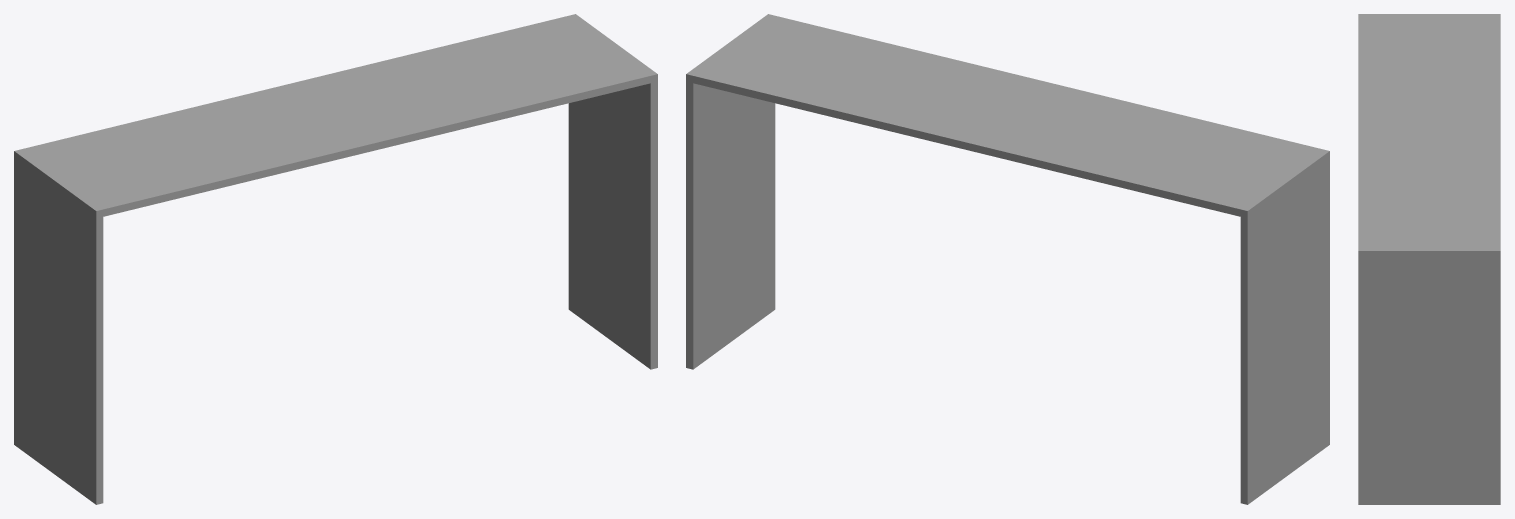
File: meuble_68fa1f2ac80f9.glb
3 views of the same model, side by side, from view 1: azimuth 30°, elevation 25°; view 2: azimuth 150°, elevation 25°; view 3: azimuth 270°, elevation 25° (orthographic). The views are drawn at different scales.
Visible parts, largest first — view 1: world; view 2: world; view 3: world.
Boxes of the visible parts, x1=… form: world: x1=14, y1=14, x2=657, y2=504; world: x1=686, y1=14, x2=1329, y2=504; world: x1=1358, y1=14, x2=1500, y2=504.
Bounding box in the file's own units: 1.5 × 0.75 × 0.38.
Materials: 1 (1 with a texture image).
